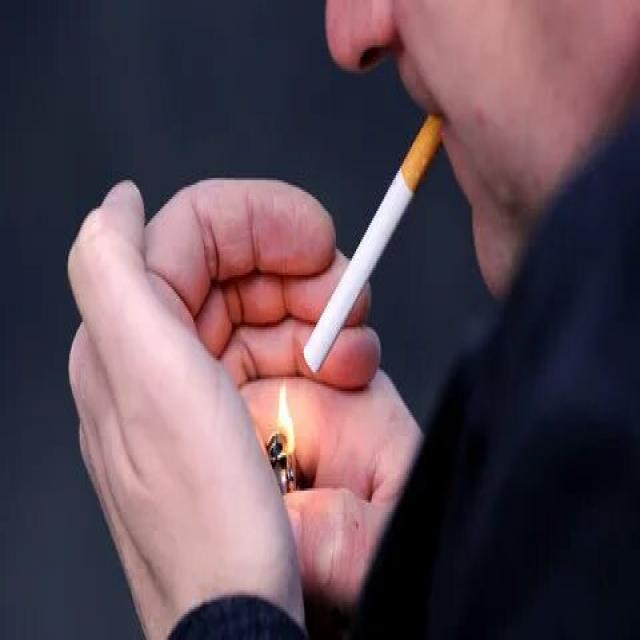cigarette: (298, 106, 450, 382)
